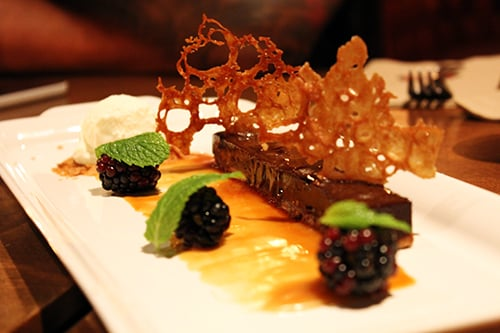burger: (406, 66, 452, 110)
pizza: (404, 120, 446, 179)
sandwich: (0, 79, 70, 111)
